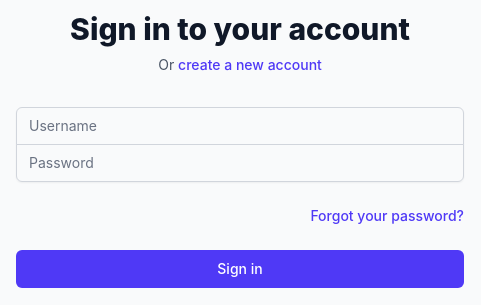
LoginView › loading state › disables the button during loading
The image size is (481, 305).
Type "user" into the field with id "username" at (240,126), box x1=16 y1=106 x2=464 y2=144
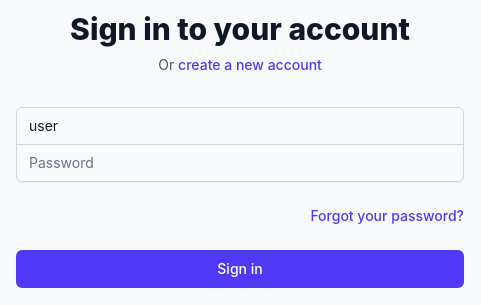
Type "pass" into the password field with placeholder "Password" at (240,162), box x1=16 y1=144 x2=464 y2=182
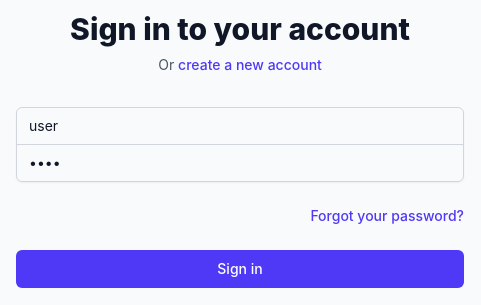
Submit the form, box x1=16 y1=106 x2=464 y2=288
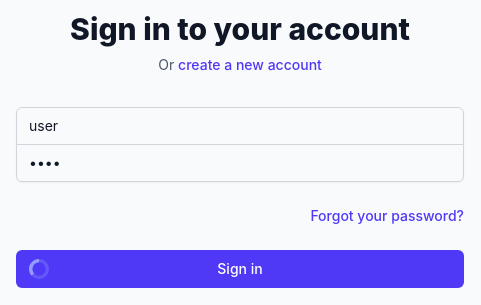
Check: the submit button is disabled, box x1=16 y1=250 x2=464 y2=288
